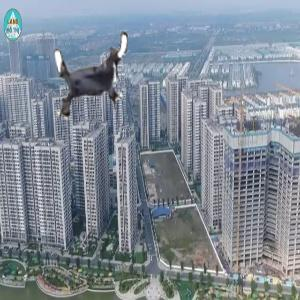drone: (45, 29, 142, 126)
